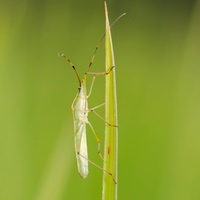insect: (59, 37, 117, 184), (85, 111, 105, 167), (87, 74, 106, 109)
